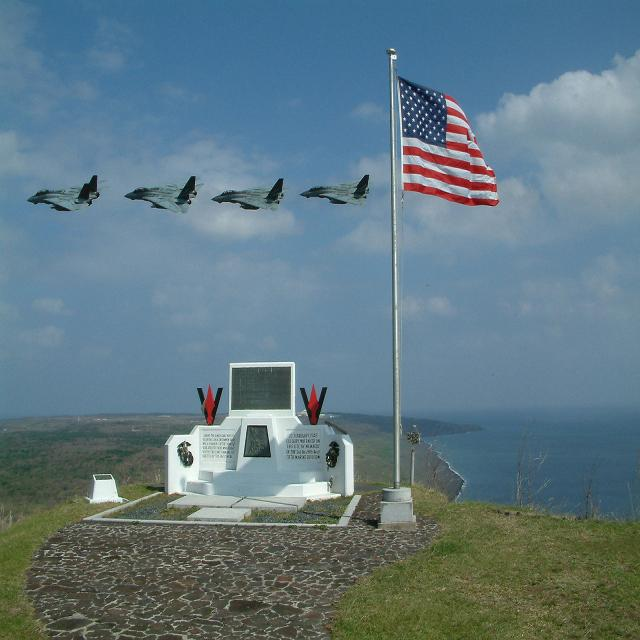MIL_Plane: (5, 174, 130, 212), (111, 175, 217, 214), (199, 177, 301, 212), (299, 173, 375, 208)
